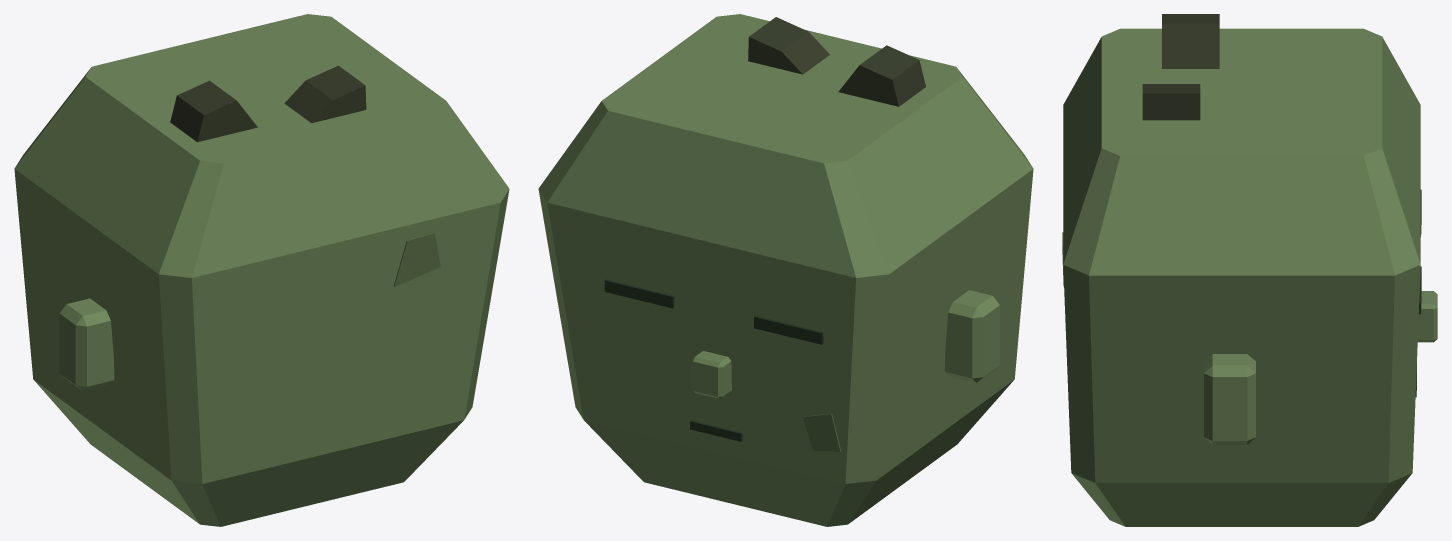
Rendered from Head.glb.
3 renders of one model, left to right at view 1: azimuth 30°, elevation 25°; view 2: azimuth 150°, elevation 25°; view 3: azimuth 270°, elevation 25°, orthographic. The views are drawn at different scales.
Parts seen in each view (by area): view 1: Sculpture; view 2: Sculpture; view 3: Sculpture.
Boxes of the visible parts, x1,y1,x2,y2 form: Sculpture: (14, 14, 509, 526); Sculpture: (538, 14, 1033, 526); Sculpture: (1062, 14, 1437, 526).
Bounding box in the file's own units: 0.599 × 0.582 × 0.4687.
